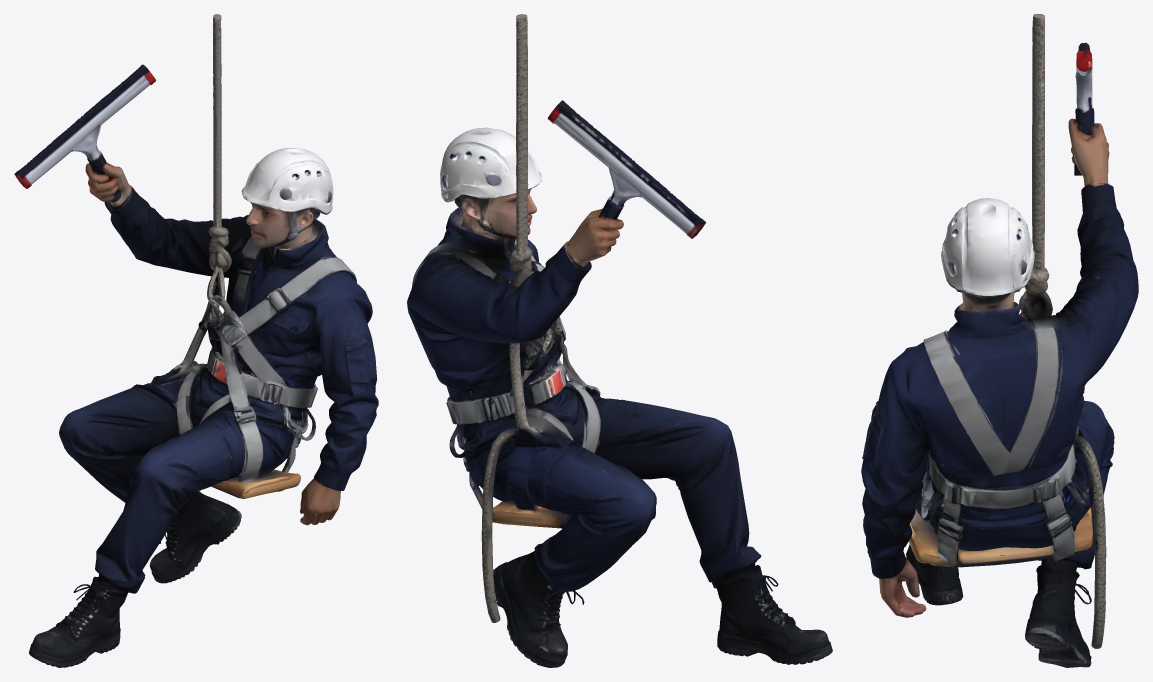
The model's file is worker-rope.glb.
3 renders of one model, left to right at view 1: azimuth 30°, elevation 25°; view 2: azimuth 150°, elevation 25°; view 3: azimuth 270°, elevation 25°, orthographic. The views are drawn at different scales.
Visible parts, largest first — view 1: node_0; view 2: node_0; view 3: node_0.
Boxes of the visible parts, x1=… form: node_0: x1=14, y1=14, x2=378, y2=667; node_0: x1=407, y1=14, x2=832, y2=667; node_0: x1=861, y1=14, x2=1138, y2=667.
Size of the model in its own units: 1.1 by 1.78 by 0.6625.
1 material, 1 textured.
